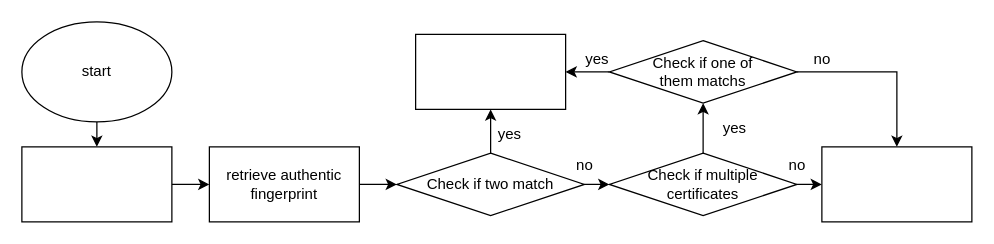
Image size: 994x244. Some labels were removed from this diagram. The shapes that lost their labels are listed below. From the top down, each one's centre as x and y in pixels, then its label:
At (490,71): "false-positive".
At (96,184): "retrieve fingerprint from website/browser".
At (896,184): "false-negative".
